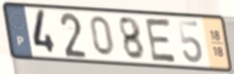0: (89, 15, 117, 59)
2: (58, 10, 89, 60)
4: (31, 8, 60, 58)
5: (176, 19, 204, 65)
8: (118, 15, 146, 62)
E: (143, 16, 179, 65)
